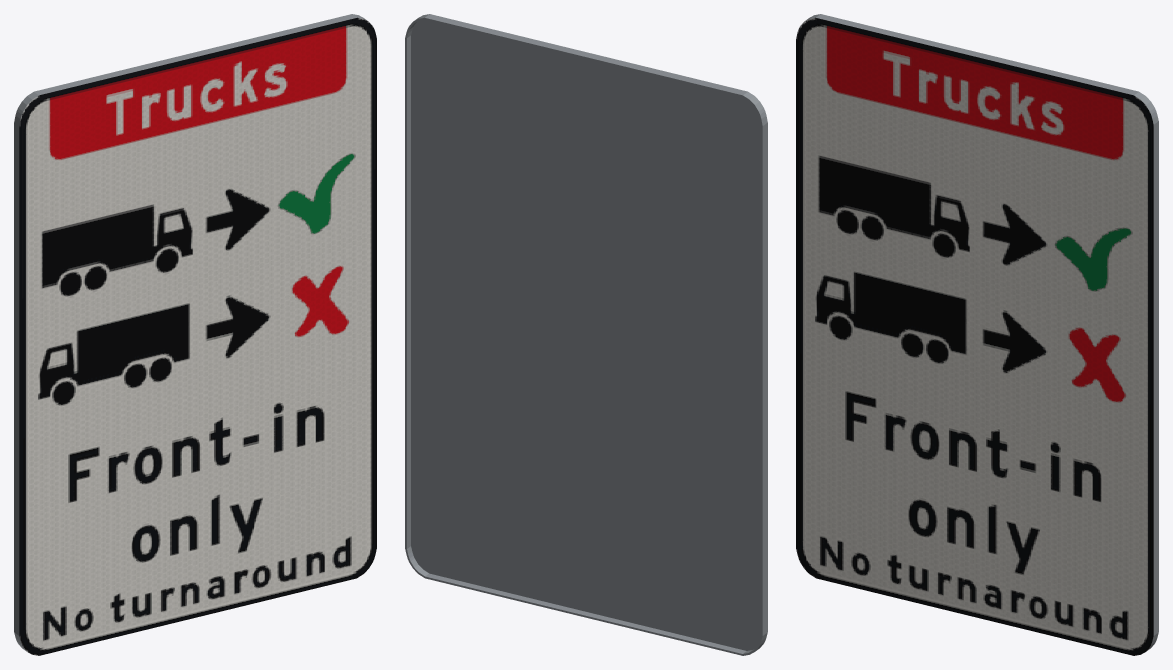
The picture shows the model from 3 angles, left to right: view 1: azimuth 30°, elevation 25°; view 2: azimuth 150°, elevation 25°; view 3: azimuth 330°, elevation 25°; orthographic projection.
Parts seen in each view (by area): view 1: cat_d2b9e5f3c4075c4b; view 2: cat_d2b9e5f3c4075c4b; view 3: cat_d2b9e5f3c4075c4b.
Boxes of the visible parts, bbox=[...] form: cat_d2b9e5f3c4075c4b: bbox=[14, 14, 376, 655]; cat_d2b9e5f3c4075c4b: bbox=[405, 14, 767, 655]; cat_d2b9e5f3c4075c4b: bbox=[796, 14, 1158, 655].
Bounding box in the file's own units: 0.6 × 0.015 × 0.8989.
Materials: 2 (1 with a texture image).
